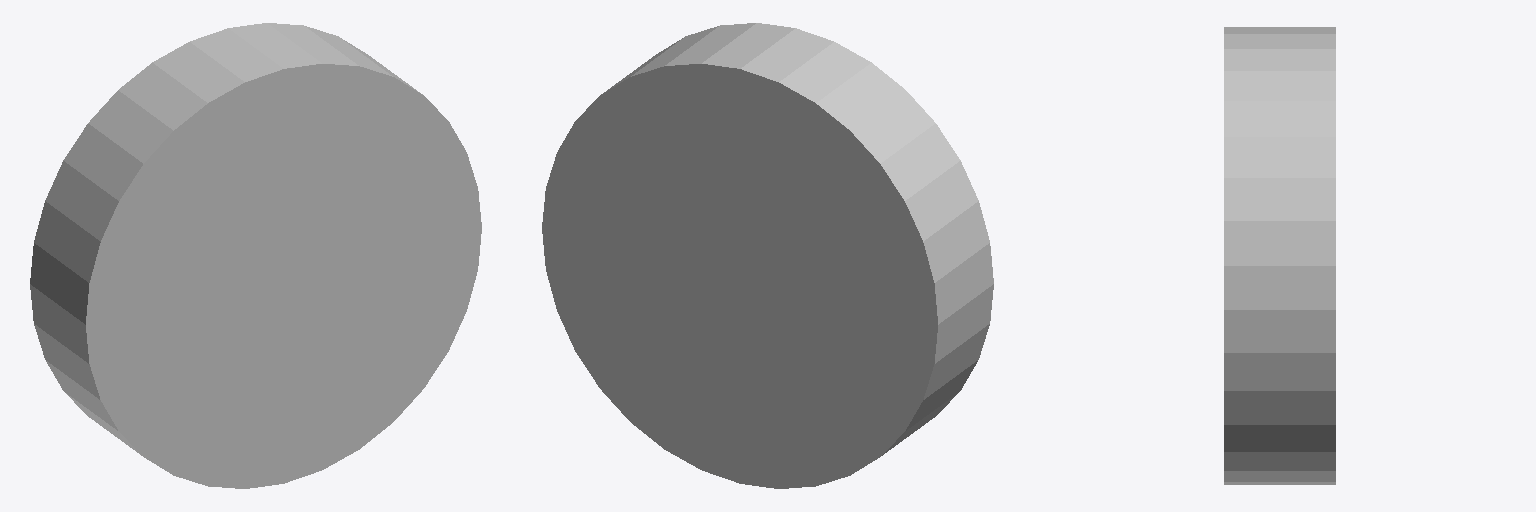
File: wheel.obj
3 renders of one model, left to right at view 1: azimuth 30°, elevation 25°; view 2: azimuth 150°, elevation 25°; view 3: azimuth 270°, elevation 25°, orthographic.
Parts seen in each view (by area): view 1: Cylinder; view 2: Cylinder; view 3: Cylinder.
Boxes of the visible parts, x1,y1,x2,y2 form: Cylinder: [30, 23, 481, 488]; Cylinder: [542, 23, 993, 488]; Cylinder: [1224, 27, 1335, 484].
Size of the model in its own units: 1.16 by 1.16 by 0.282.